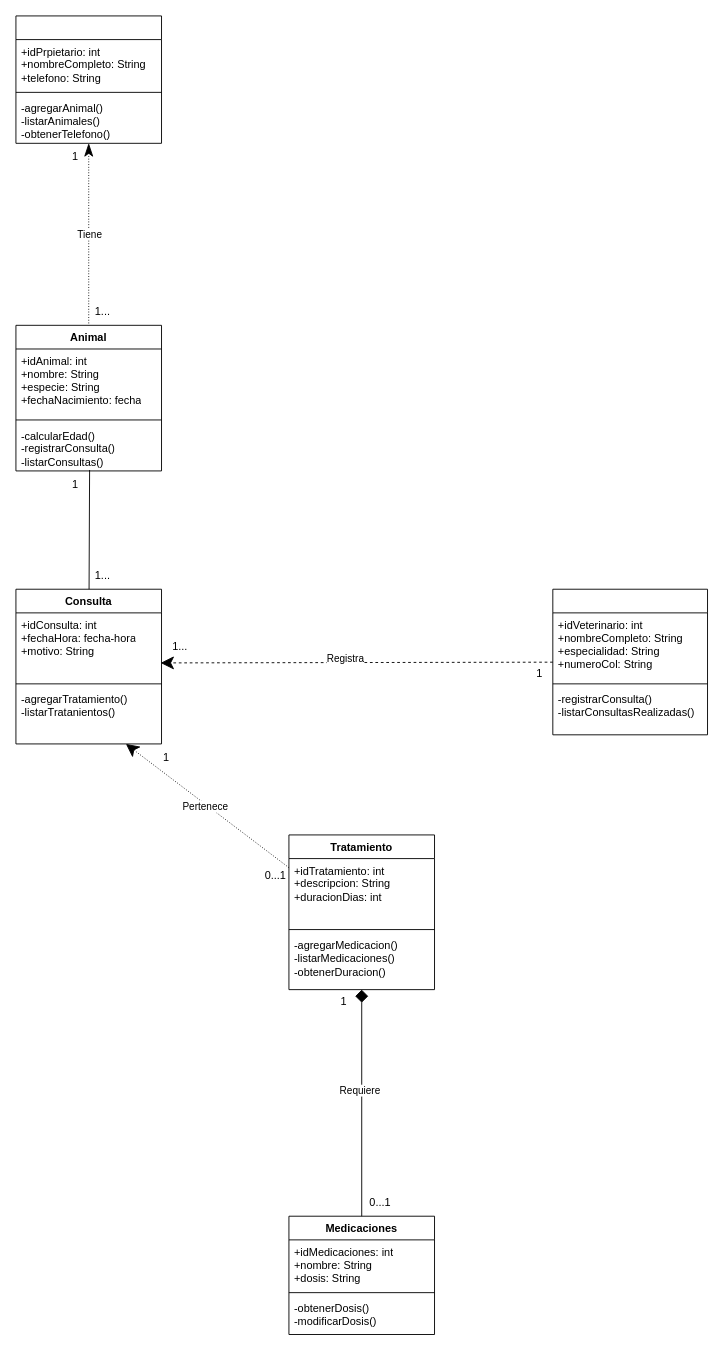
Some shapes in this 723 by 1353 pixel diagram are drawn without their labels. Each missing label, with the box of its shape:
Propietario: (15, 15, 162, 143)
Veterinarios: (552, 588, 708, 735)
